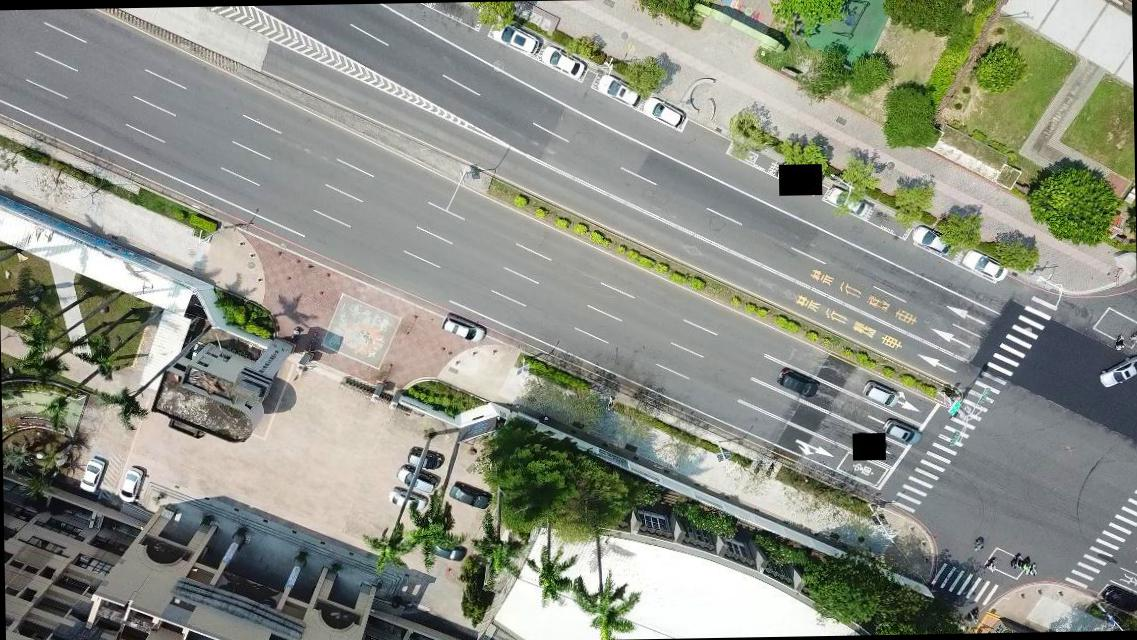vehicle: (960, 247, 1010, 282), (493, 22, 542, 56), (541, 44, 586, 80), (596, 72, 640, 106), (442, 312, 488, 343), (642, 96, 685, 129), (1099, 354, 1136, 390), (826, 188, 870, 218), (912, 225, 954, 256), (397, 463, 440, 493), (776, 368, 818, 396), (449, 482, 491, 510), (427, 532, 466, 562), (78, 456, 107, 494), (863, 380, 900, 407), (882, 421, 921, 446), (389, 486, 426, 512), (121, 464, 145, 504), (408, 445, 442, 469)
